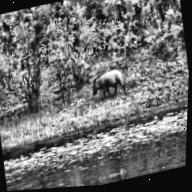boar: (77, 59, 145, 108)
